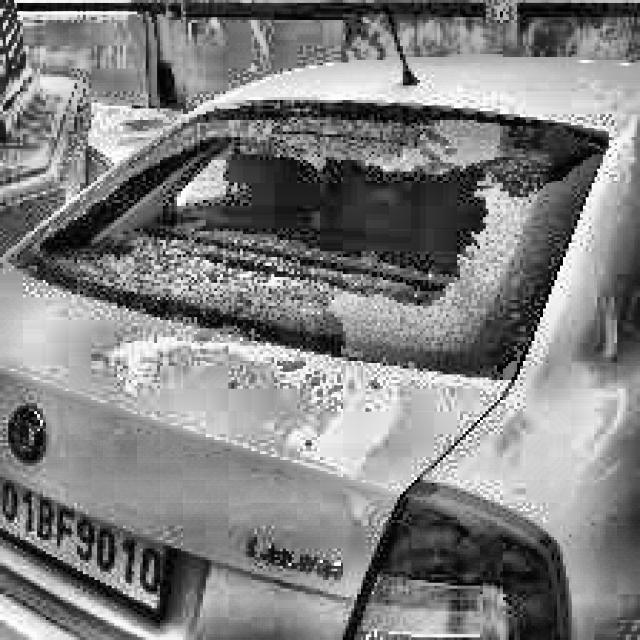glass_shatter: (314, 123, 508, 364), (58, 202, 296, 320), (190, 114, 300, 194)
